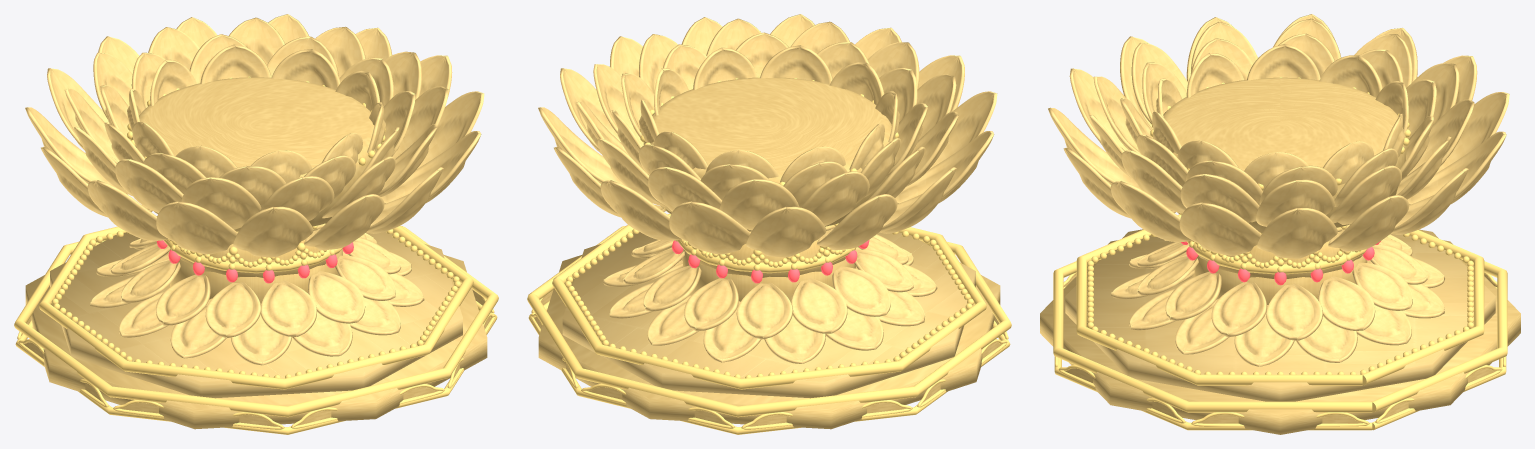
File: rengeza.glb
3 renders of one model, left to right at view 1: azimuth 30°, elevation 25°; view 2: azimuth 150°, elevation 25°; view 3: azimuth 270°, elevation 25°, orthographic.
Visible parts, largest first — view 1: Cylinder.001, dais, Cylinder, trim, trim.001, petal_外_13, petal_外_14, petal_二_11, petal_反花内_12, petal_外_0, petal_反花内_11, petal_外_12 (+65 smaller); view 2: Cylinder.001, dais, Cylinder, trim, trim.001, petal_外_8, petal_外_9, petal_二_7, petal_反花内_8, petal_反花内_7, petal_外_10, petal_外_7 (+66 smaller); view 3: Cylinder.001, dais, Cylinder, trim.001, trim, petal_外_3, petal_外_4, petal_反花内_3, petal_外_5, petal_反花内_4, petal_外_2, petal_反花内_2 (+63 smaller).
Part boxes in pixels (x1,y1,x2,y2): Cylinder.001: (50, 216, 462, 398); dais: (130, 77, 382, 231); Cylinder: (25, 254, 487, 429); trim: (14, 226, 498, 417); trim.001: (39, 226, 473, 389); petal_外_13: (156, 201, 237, 254); petal_外_14: (233, 206, 313, 257); petal_二_11: (181, 177, 261, 229); petal_反花内_12: (260, 280, 316, 336); petal_外_0: (304, 194, 384, 250); petal_反花内_11: (205, 282, 261, 338); petal_外_12: (87, 180, 168, 240); Cylinder.001: (562, 232, 975, 398); dais: (643, 77, 894, 231); Cylinder: (538, 255, 1000, 429); trim: (527, 226, 1011, 417); trim.001: (552, 214, 986, 389); petal_外_8: (669, 201, 750, 254); petal_外_9: (746, 206, 826, 257); petal_二_7: (719, 179, 799, 230); petal_反花内_8: (791, 278, 847, 333); petal_反花内_7: (736, 283, 793, 339); petal_外_10: (816, 194, 897, 250); petal_外_7: (600, 180, 681, 240); Cylinder.001: (1065, 229, 1495, 401); dais: (1163, 77, 1406, 232); Cylinder: (1040, 240, 1520, 434); trim.001: (1076, 214, 1484, 385); trim: (1053, 259, 1507, 412); petal_外_3: (1179, 202, 1261, 255); petal_外_4: (1257, 208, 1337, 258); petal_反花内_3: (1266, 283, 1322, 340); petal_外_5: (1328, 195, 1409, 251); petal_反花内_4: (1318, 276, 1375, 330); petal_外_2: (1110, 181, 1191, 242); petal_反花内_2: (1211, 282, 1266, 337).
Bounding box in the file's own units: 3.04 × 1.66 × 3.04.
Materials: 6 (4 with a texture image).
